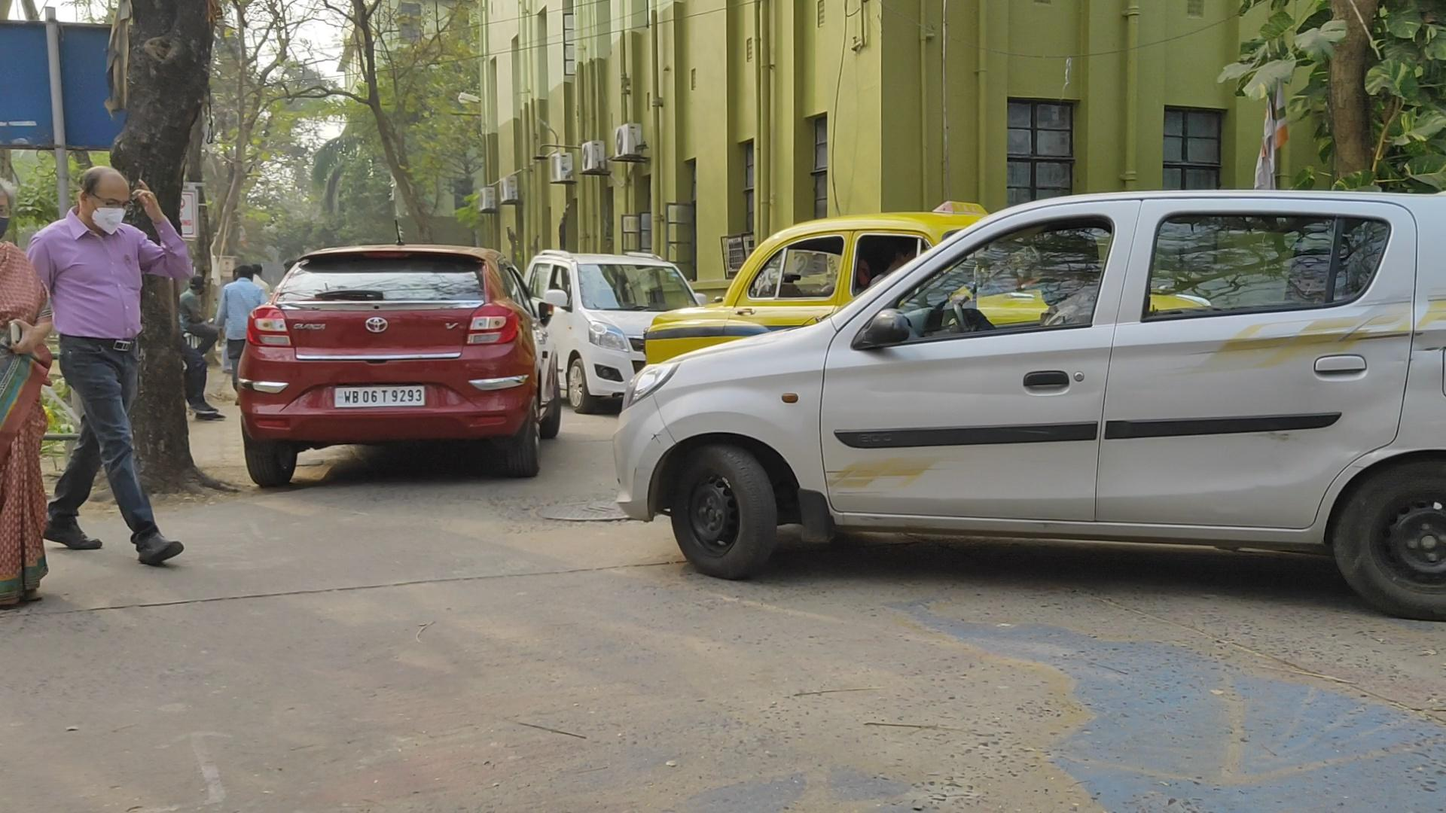car: (612, 188, 1446, 622), (643, 200, 1211, 530), (236, 244, 563, 489), (520, 248, 705, 416)
